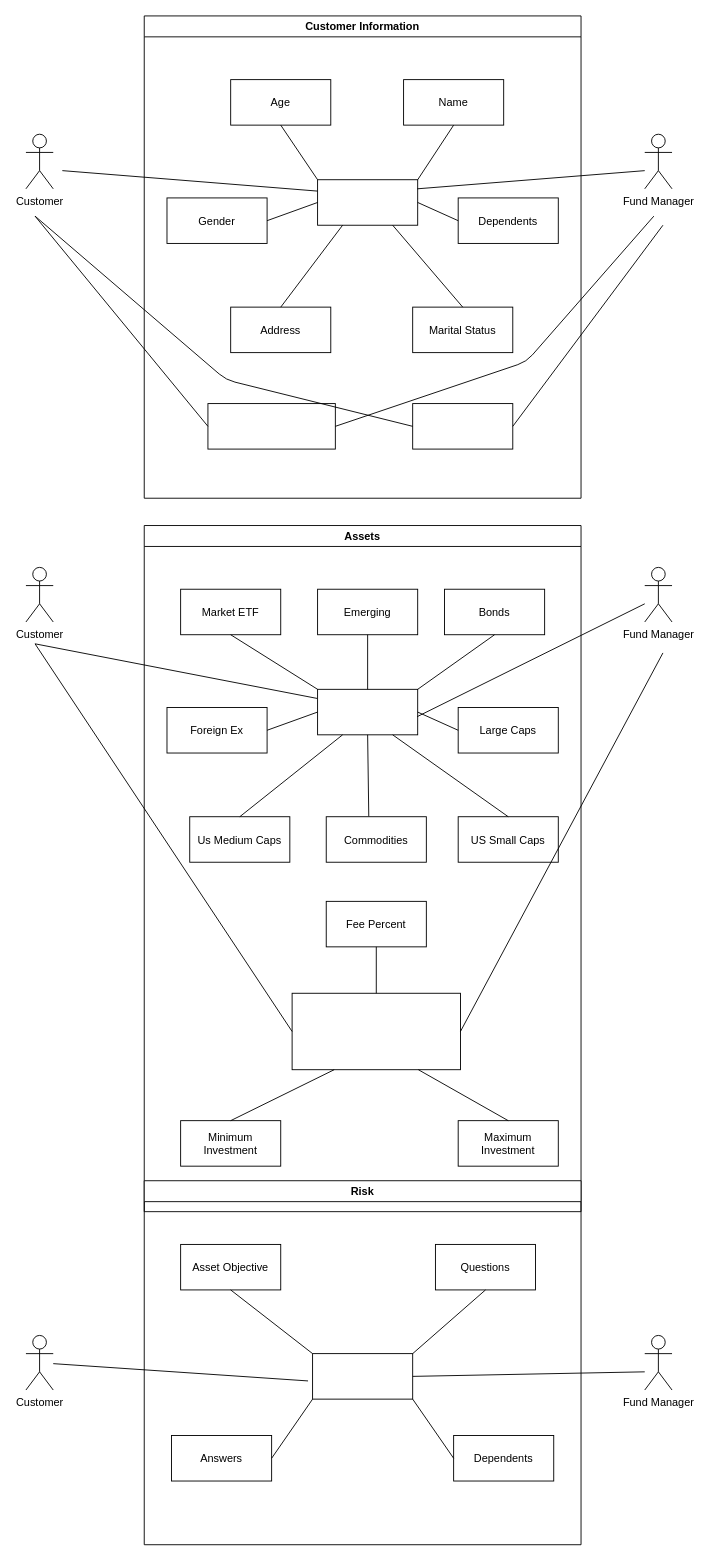
The diagram is 709 pixels wide and 1561 high, and some of its shapes have lost their labels. The centre of each missing label's shape, as x and y in pixels:
Assets Class: the point at 367,711
Engaement Frequency: the point at 271,426
Engament Mode: the point at 462,426
Personal Information: the point at 367,202
Proposed Diversified Portfolio: the point at 375,1031
Risk Profile: the point at 362,1376
